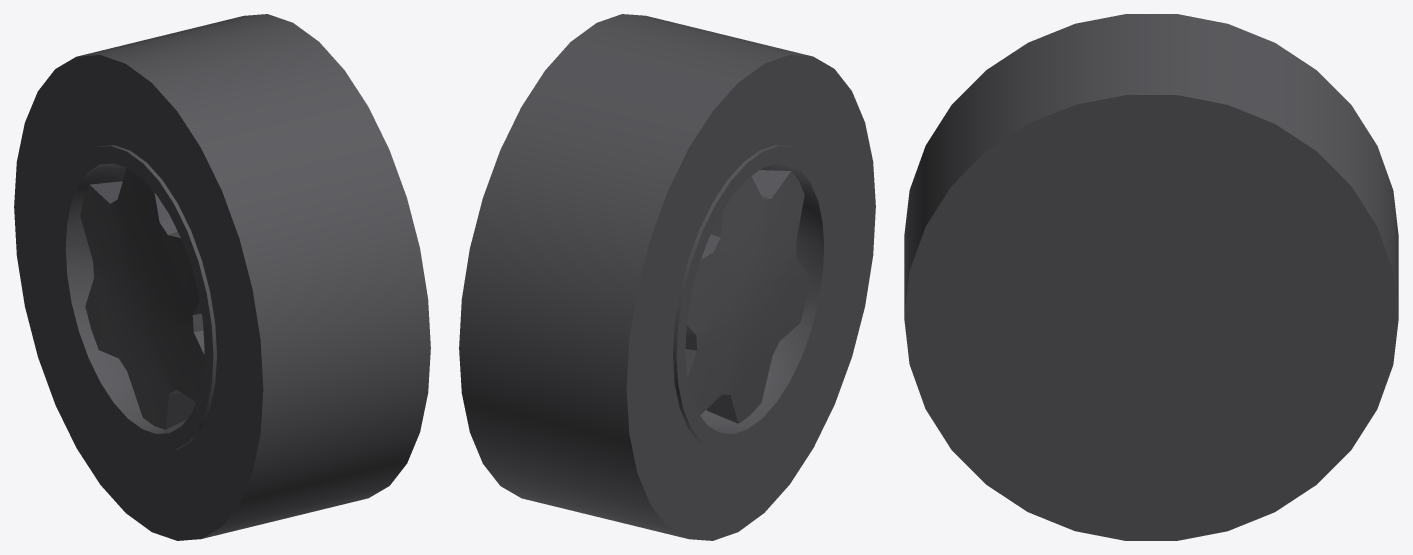
File: llanta4.obj
3 views of the same model, side by side, from view 1: azimuth 30°, elevation 25°; view 2: azimuth 150°, elevation 25°; view 3: azimuth 270°, elevation 25° (orthographic).
Visible parts, largest first — view 1: llanta4; view 2: llanta4; view 3: llanta4.
Boxes of the visible parts, <box> form: llanta4: <box>14,14,430,540</box>; llanta4: <box>459,14,875,540</box>; llanta4: <box>904,14,1398,540</box>.
Size of the model in its own units: 0.0578 by 0.1449 by 0.1457.
Materials: 1 (1 with a texture image).
